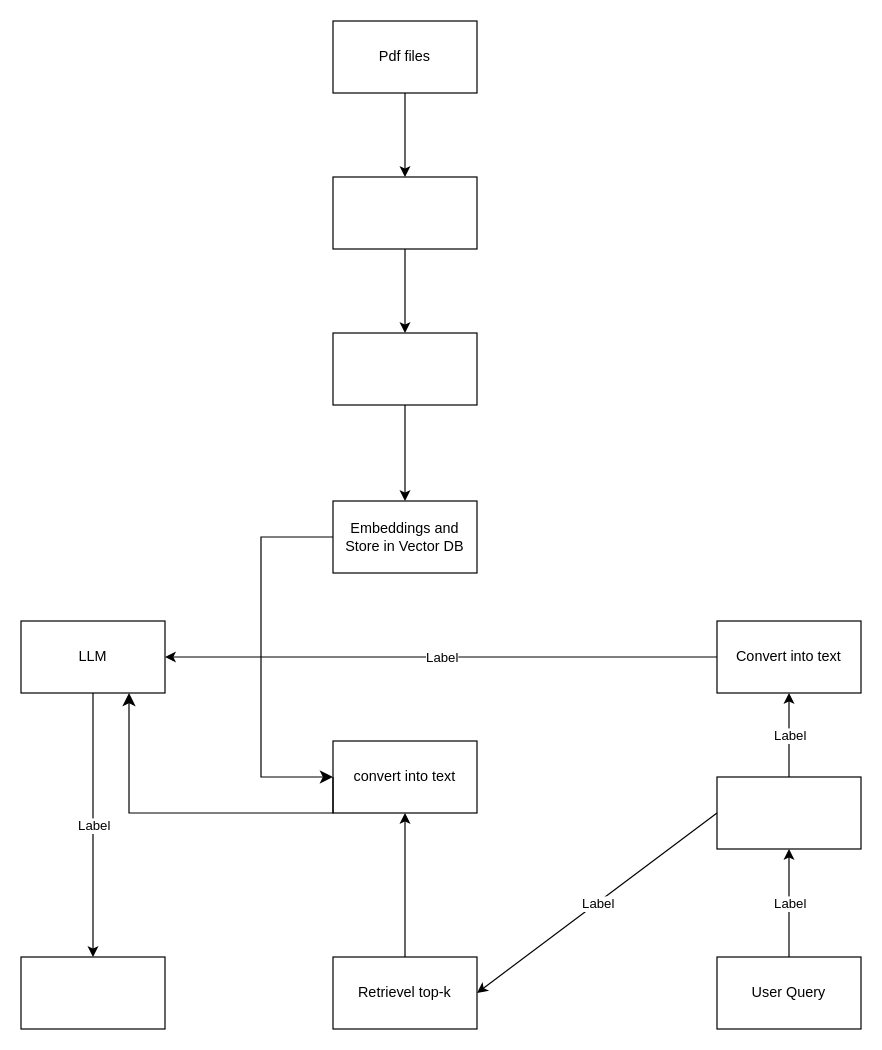
Image size: 882x1050. Some labels were removed from this diagram. The shapes that lost their labels are listed below. From the top down, each one's centre as x and y in pixels, then its label:
At pixel 404 212: "Pdf Parser".
At pixel 404 368: "Chunks".
At pixel 788 812: "Converting into Embeddings".
At pixel 92 992: "Answer".
